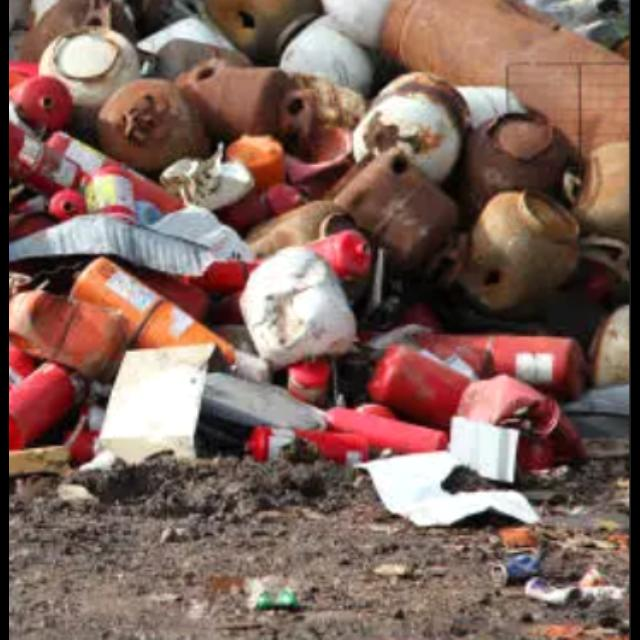Cylinders: (349, 71, 473, 173)
